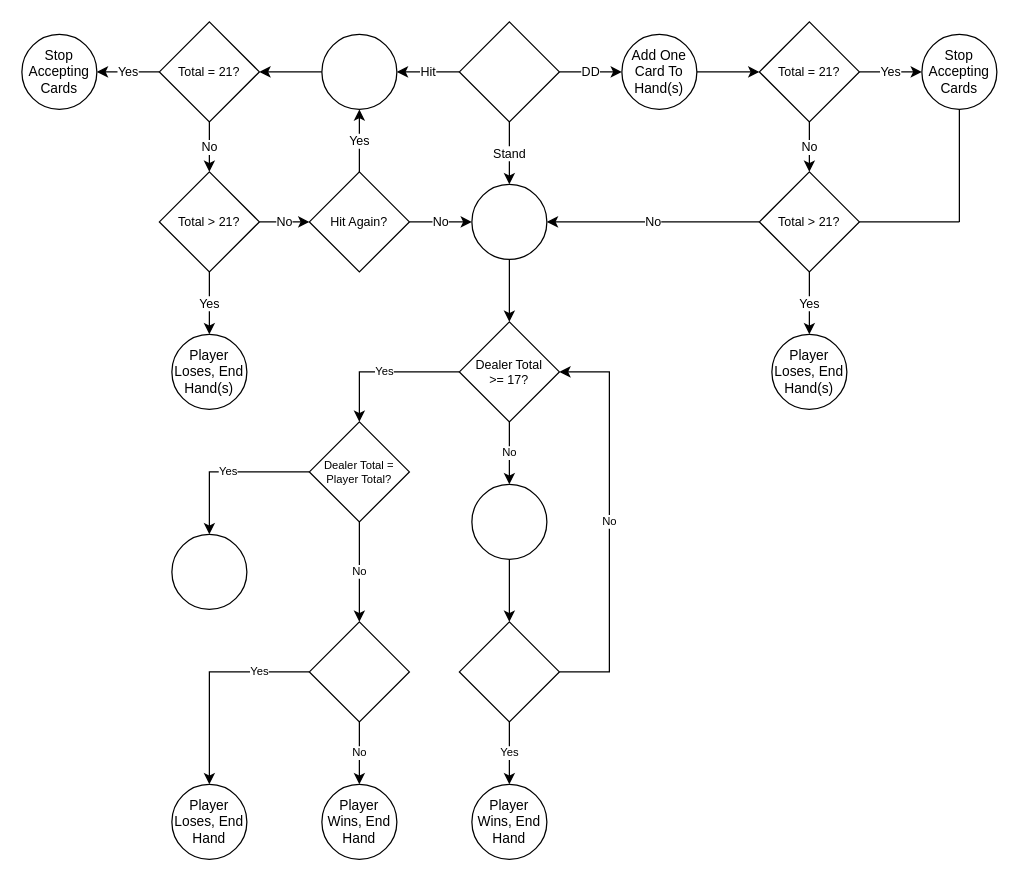
Some shapes in this 1019 by 881 pixel diagram are drawn without their labels. The shapes that lost their labels are listed below. From the top down, each one's centre as x and y in pixels, then its label:
At (359,71): "Add Card To Hand".
At (508,71): "Hit, Stand, Double Down?".
At (509,221): "Reveal Dealer Hand".
At (509,521): "Add Card To Dealer Hand".
At (209,571): "Player & Dealer Tie, End Hand".
At (358,671): "Dealer Total > Player Total?".
At (508,671): "Dealer Total > 21?".
